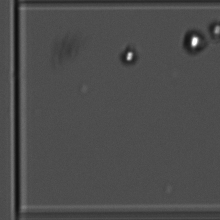Living Cell: (180, 29, 207, 56), (119, 44, 139, 65)
